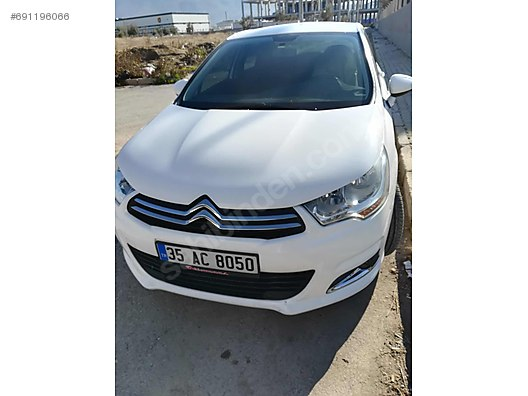citroen: (115, 18, 411, 321)
